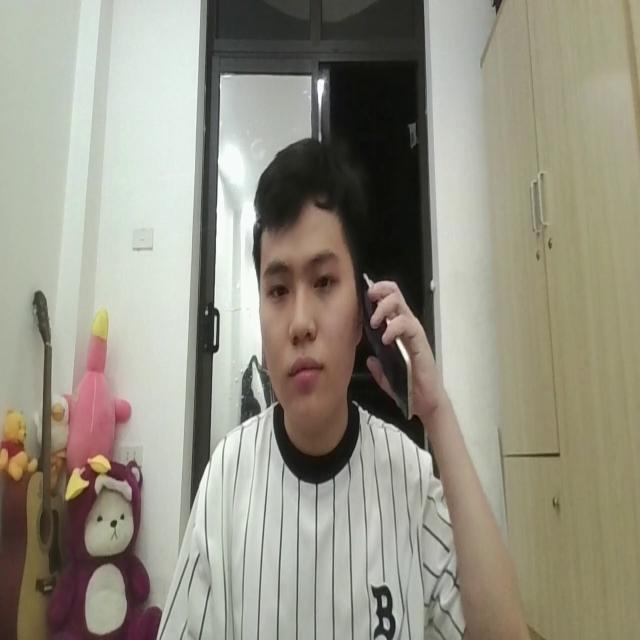phone: (358, 254, 414, 423)
student: (160, 138, 527, 640)
